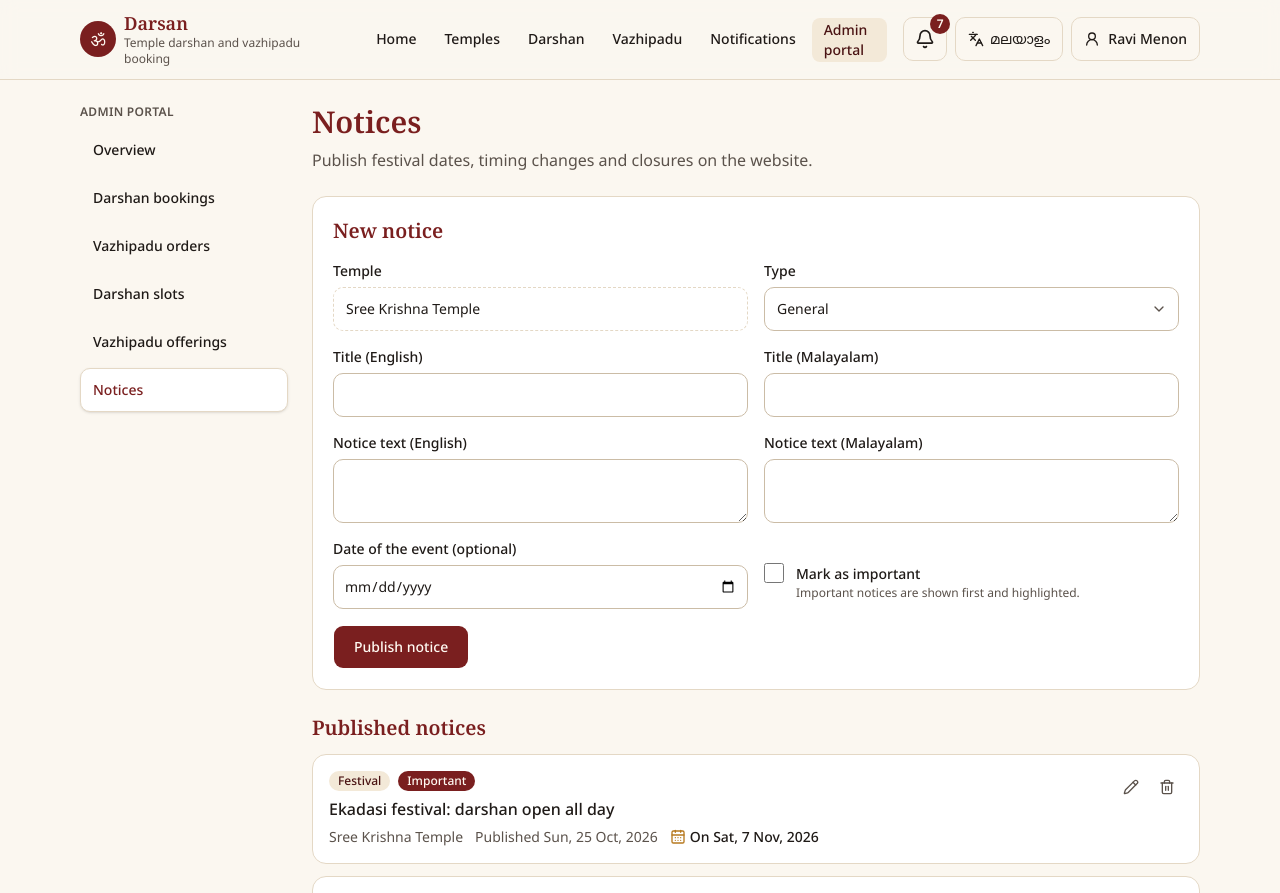
Test: Notices › deletes a notice after confirming
Click the button named "Delete notice: Ekadasi festival" at (1167, 786), box [1151,770,1183,802]
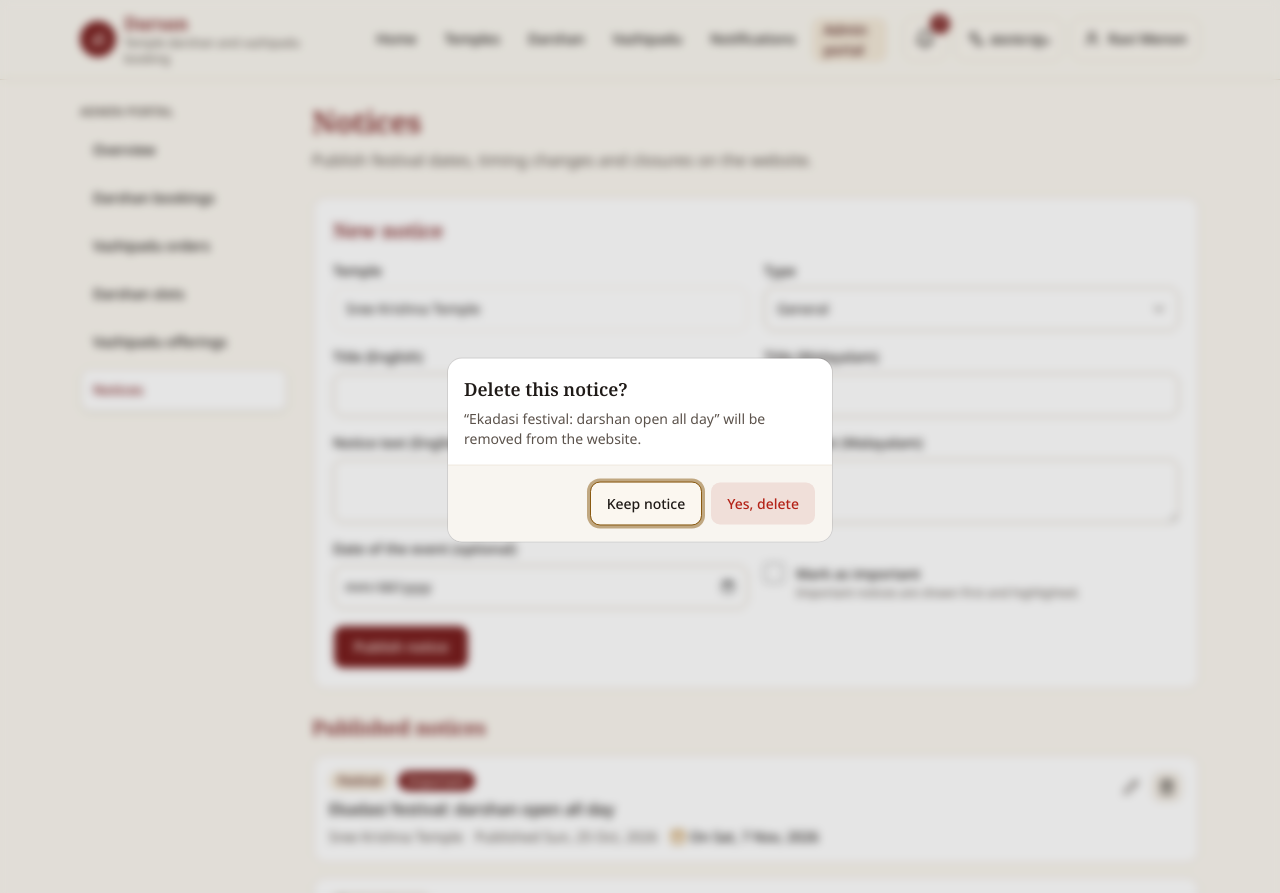
Click the button "Yes, delete" at (763, 504), box [710,482,816,526]
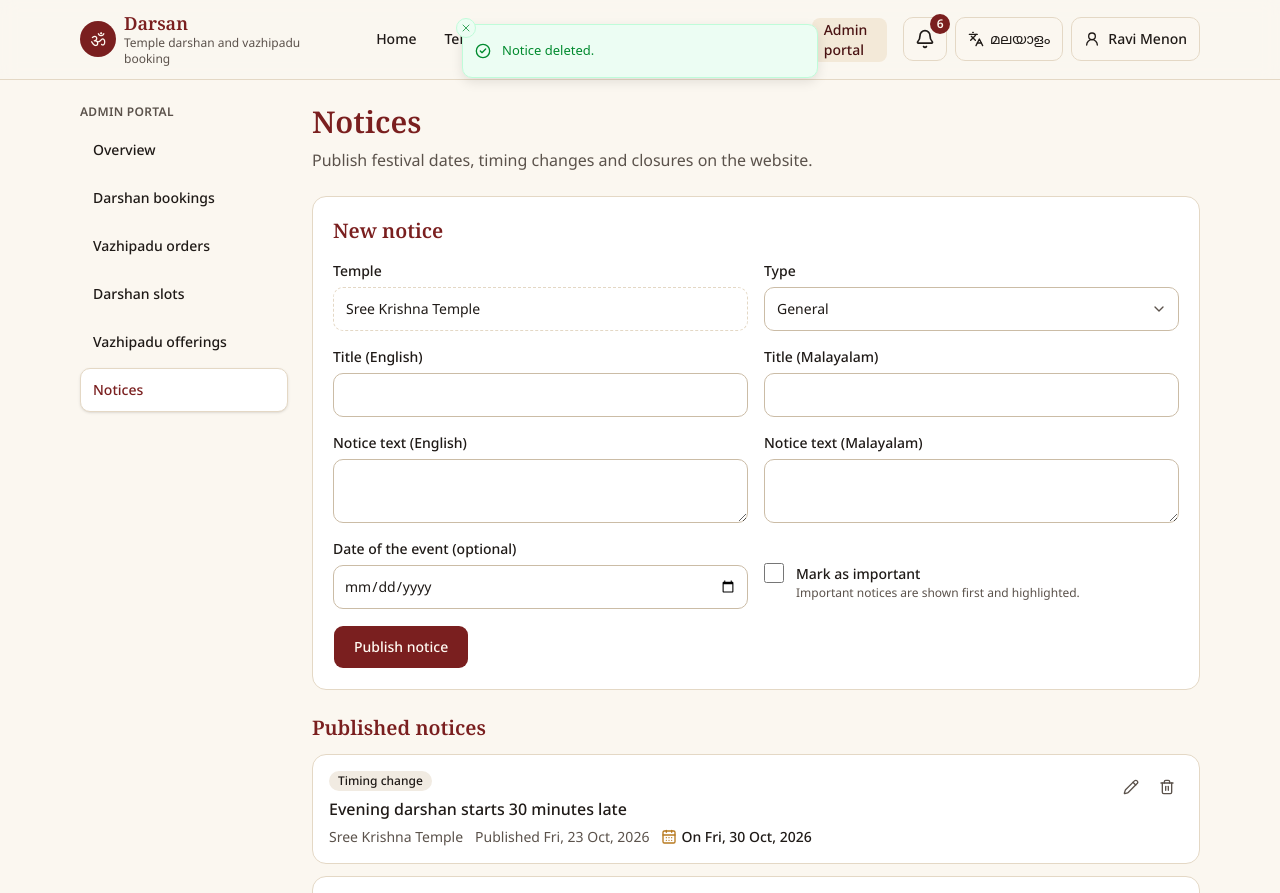
Expected: the text "Notice deleted." is shown, [502,41,594,60]
Expected: the text "Ekadasi festival" is gone
